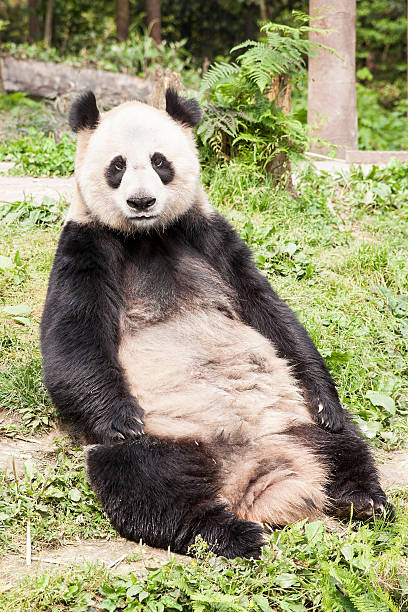panda: (48, 53, 249, 247)
